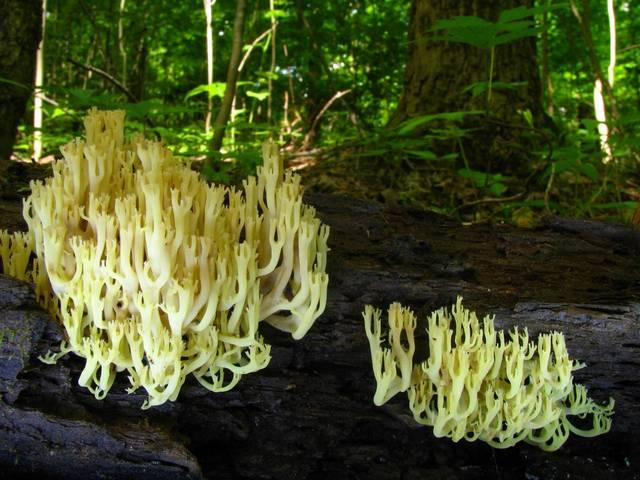edible_mushroom: (1, 105, 331, 409), (361, 293, 615, 452)
